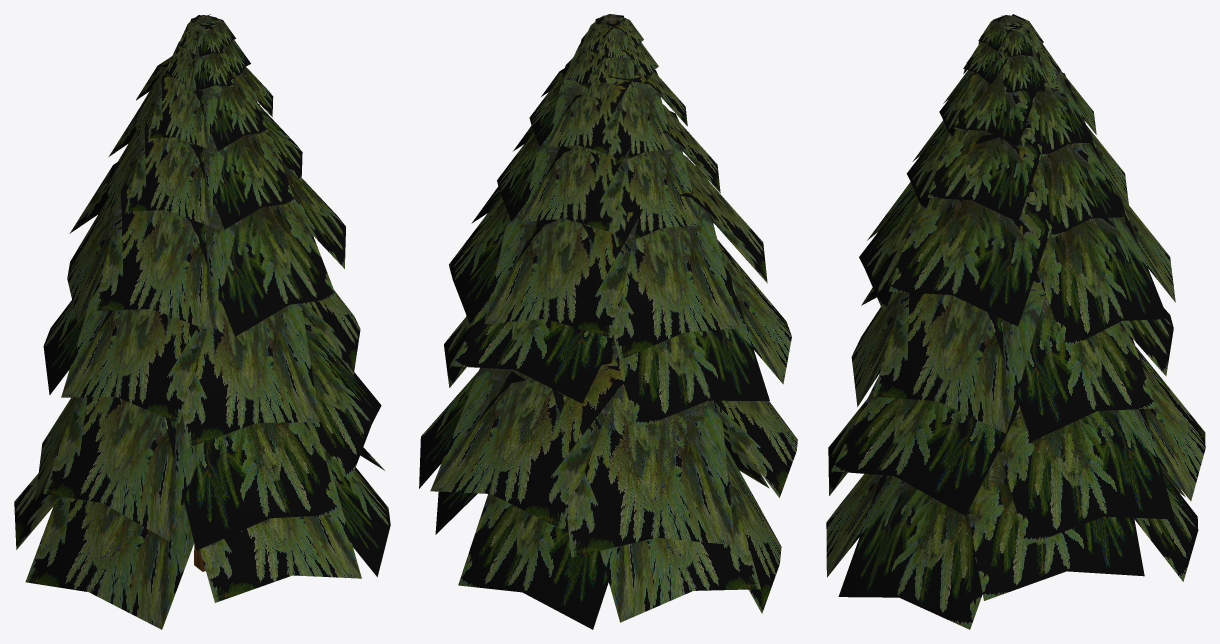
The model's file is tanne_big.dae.
3 views of the same model, side by side, from view 1: azimuth 30°, elevation 25°; view 2: azimuth 150°, elevation 25°; view 3: azimuth 270°, elevation 25° (orthographic). The views are drawn at different scales.
Visible parts, largest first — view 1: Plane; view 2: Plane; view 3: Plane.
Boxes of the visible parts, <box> form: Plane: <box>14,14,390,629</box>; Plane: <box>419,14,797,629</box>; Plane: <box>826,14,1205,629</box>.
Bounding box in the file's own units: 3.83 × 3.64 × 5.97.
1 material, 1 textured.
